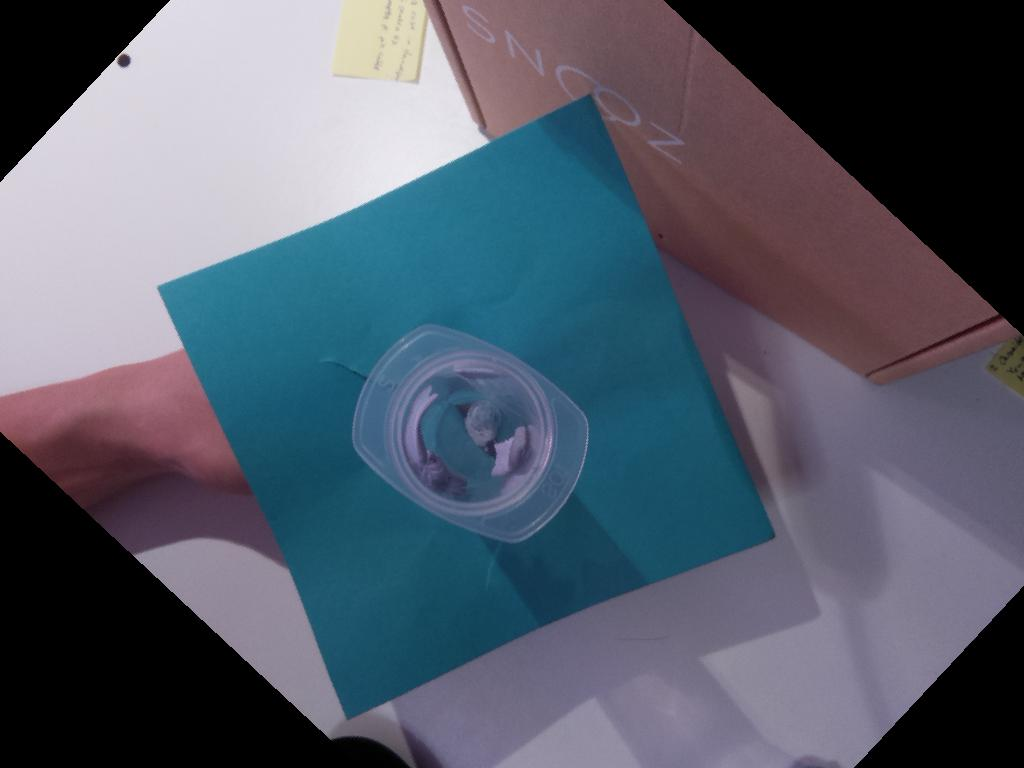dirty: (343, 316, 601, 548)
